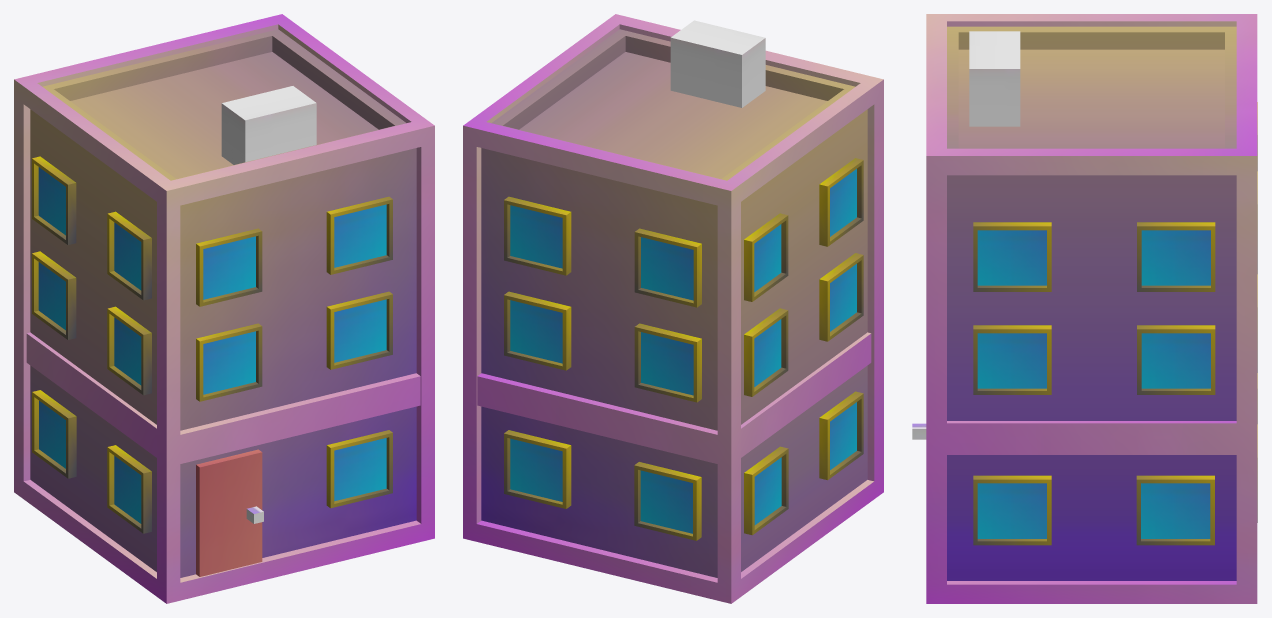
The model's file is House_15.glb.
3 views of the same model, side by side, from view 1: azimuth 30°, elevation 25°; view 2: azimuth 150°, elevation 25°; view 3: azimuth 270°, elevation 25° (orthographic). The views are drawn at different scales.
Visible parts, largest first — view 1: House_15; view 2: House_15; view 3: House_15.
Part boxes in pixels (<box>): House_15: <box>14,14,434,603</box>; House_15: <box>463,14,883,603</box>; House_15: <box>912,14,1257,603</box>.
Size of the model in its own units: 792 by 1244 by 806.
1 material, 1 textured.
